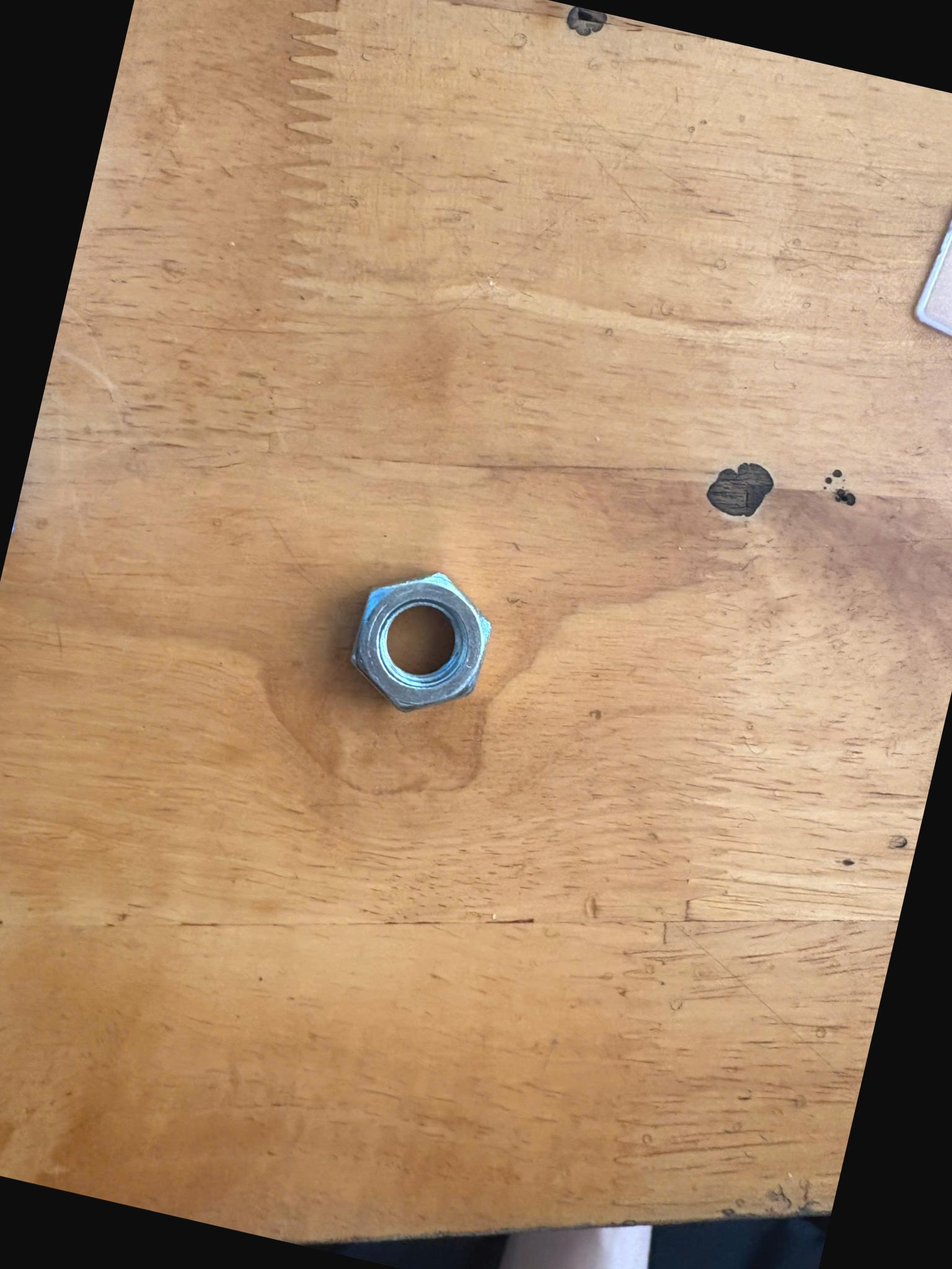nut: (298, 534, 530, 746)
